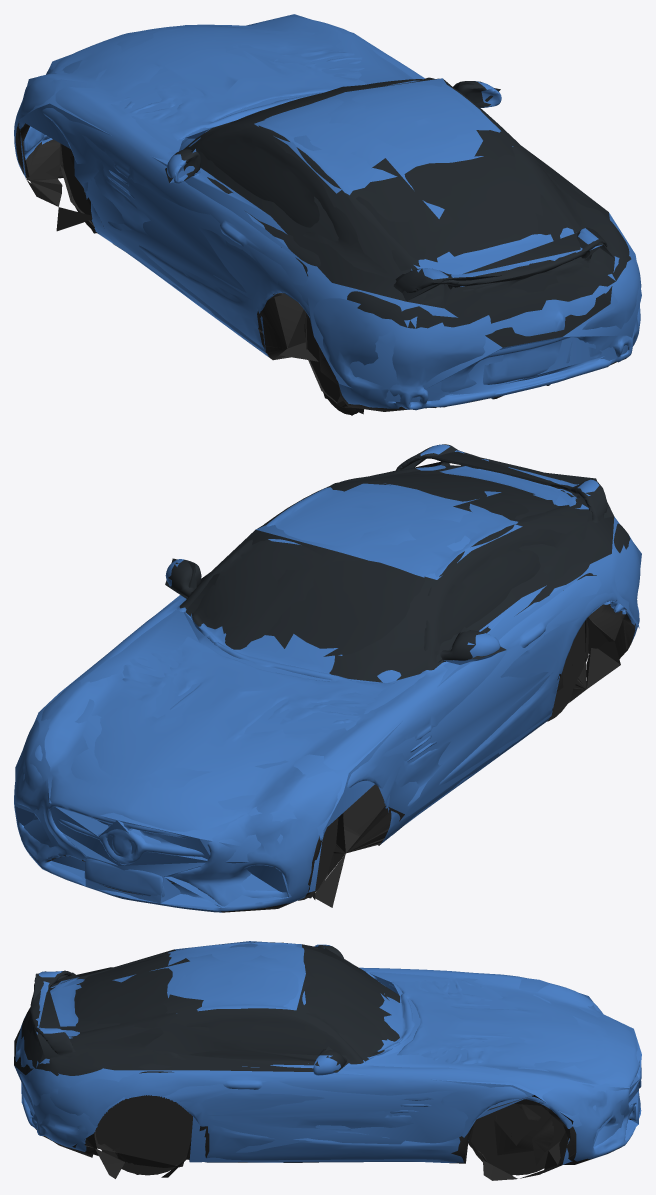
Rendered from mercedes-benz-amg-gt.glb.
3 renders of one model, top to bottom at view 1: azimuth 30°, elevation 25°; view 2: azimuth 150°, elevation 25°; view 3: azimuth 270°, elevation 25°, orthographic. The views are drawn at different scales.
Visible parts, largest first — view 1: body, far; view 2: body, far; view 3: body, far.
Part boxes in pixels (box(x1,y1,x2,y2)): body: box(14, 17, 641, 415); far: box(18, 14, 641, 414); body: box(14, 444, 640, 912); far: box(15, 451, 641, 907); body: box(15, 942, 641, 1180); far: box(14, 941, 641, 1175).
Bounding box in the file's own units: 2.22 × 1.41 × 4.77.
